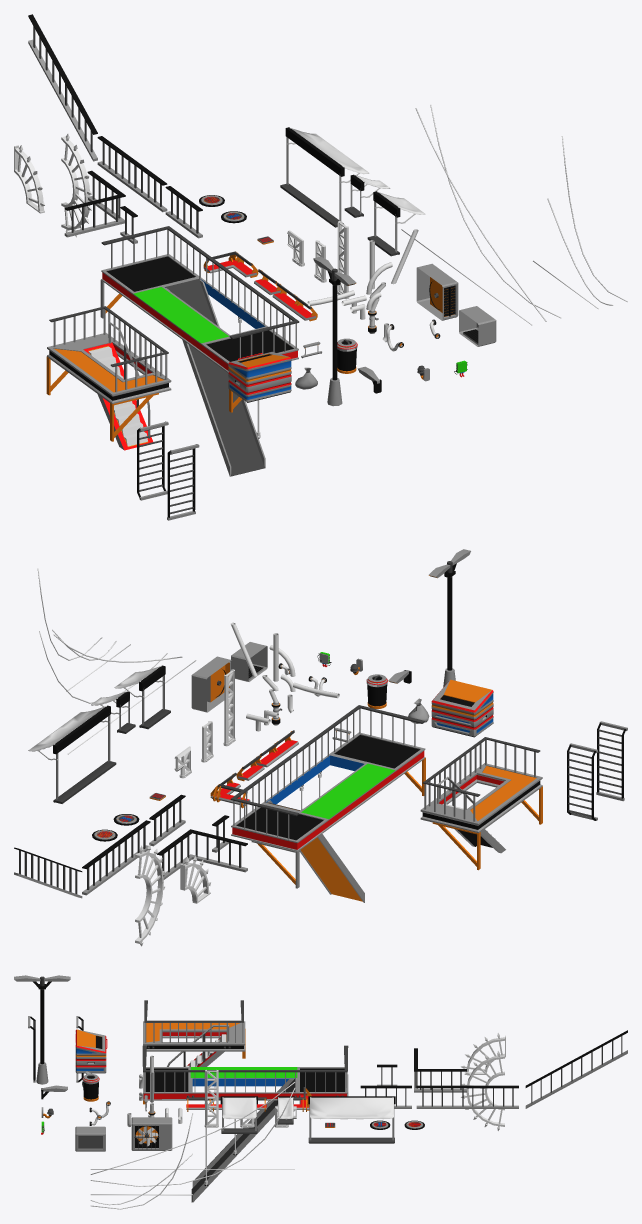
The model's file is StreetDeco00.FBX.
3 views of the same model, one above another, from view 1: azimuth 30°, elevation 25°; view 2: azimuth 150°, elevation 25°; view 3: azimuth 270°, elevation 25° (orthographic). The views are drawn at different scales.
Visible parts, largest first — view 1: CityTerrain_Base_10x011, FireEscape00, CityTerrain_Base_10x012, Box040, Box067, Coolbox01, Box020, Box065, Box066, Box061, Coolbox00, Box063 (+7 smaller); view 2: CityTerrain_Base_10x011, CityTerrain_Base_10x012, FireEscape00, Coolbox01, Box040, Box020, Box066, Box065, Window_Streetdeco002, Box063, Box062, Box067 (+9 smaller); view 3: CityTerrain_Base_10x011, CityTerrain_Base_10x012, FireEscape00, Plane008, Coolbox01, Box065, Box067, Box020, Coolbox00, Box040, Plane007, Box066 (+12 smaller).
Part boxes in pixels (bbox=[...]): CityTerrain_Base_10x011: bbox=[100, 254, 298, 412]; FireEscape00: bbox=[101, 226, 299, 476]; CityTerrain_Base_10x012: bbox=[46, 306, 171, 441]; Box040: bbox=[228, 358, 291, 402]; Box067: bbox=[28, 14, 97, 161]; Coolbox01: bbox=[416, 263, 458, 320]; Box020: bbox=[280, 127, 344, 227]; Box065: bbox=[97, 136, 167, 212]; Box066: bbox=[64, 170, 125, 237]; Box061: bbox=[88, 346, 147, 446]; Coolbox00: bbox=[459, 306, 496, 346]; Box063: bbox=[167, 444, 199, 520]; CityTerrain_Base_10x011: bbox=[231, 732, 425, 888]; CityTerrain_Base_10x012: bbox=[420, 737, 542, 870]; FireEscape00: bbox=[230, 705, 424, 902]; Coolbox01: bbox=[191, 656, 232, 712]; Box040: bbox=[431, 692, 493, 737]; Box020: bbox=[53, 705, 116, 803]; Box066: bbox=[157, 829, 247, 880]; Box065: bbox=[82, 820, 150, 895]; Window_Streetdeco002: bbox=[431, 679, 493, 712]; Box063: bbox=[596, 721, 627, 801]; Box062: bbox=[567, 743, 597, 820]; Box067: bbox=[14, 847, 82, 898]; CityTerrain_Base_10x011: bbox=[143, 1067, 348, 1104]; CityTerrain_Base_10x012: bbox=[143, 1000, 245, 1058]; FireEscape00: bbox=[142, 1045, 348, 1202]; Plane008: bbox=[310, 1097, 393, 1119]; Coolbox01: bbox=[131, 1117, 172, 1150]; Box065: bbox=[416, 1085, 518, 1108]; Box067: bbox=[525, 1030, 627, 1108]; Box020: bbox=[308, 1096, 395, 1143]; Coolbox00: bbox=[75, 1126, 105, 1151]; Box040: bbox=[75, 1032, 106, 1073]; Plane007: bbox=[222, 1097, 256, 1119]; Box066: bbox=[414, 1048, 466, 1092].
Bounding box in the file's own units: 220 × 117 × 300.
